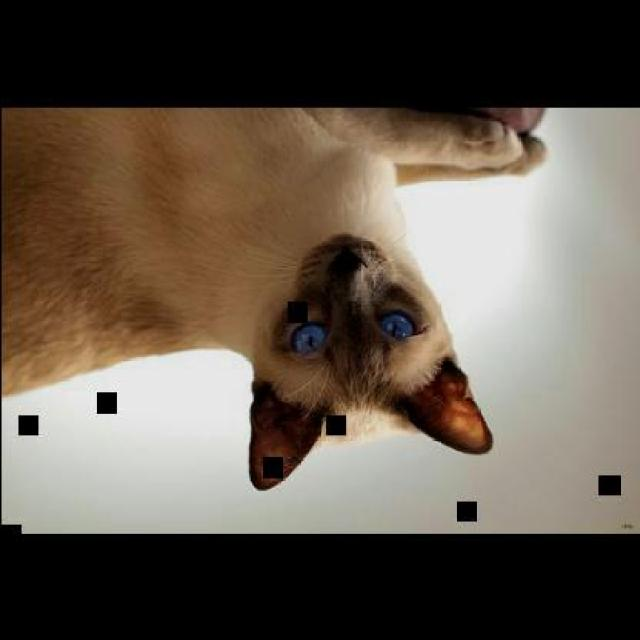unauthorized: (0, 104, 548, 490)
